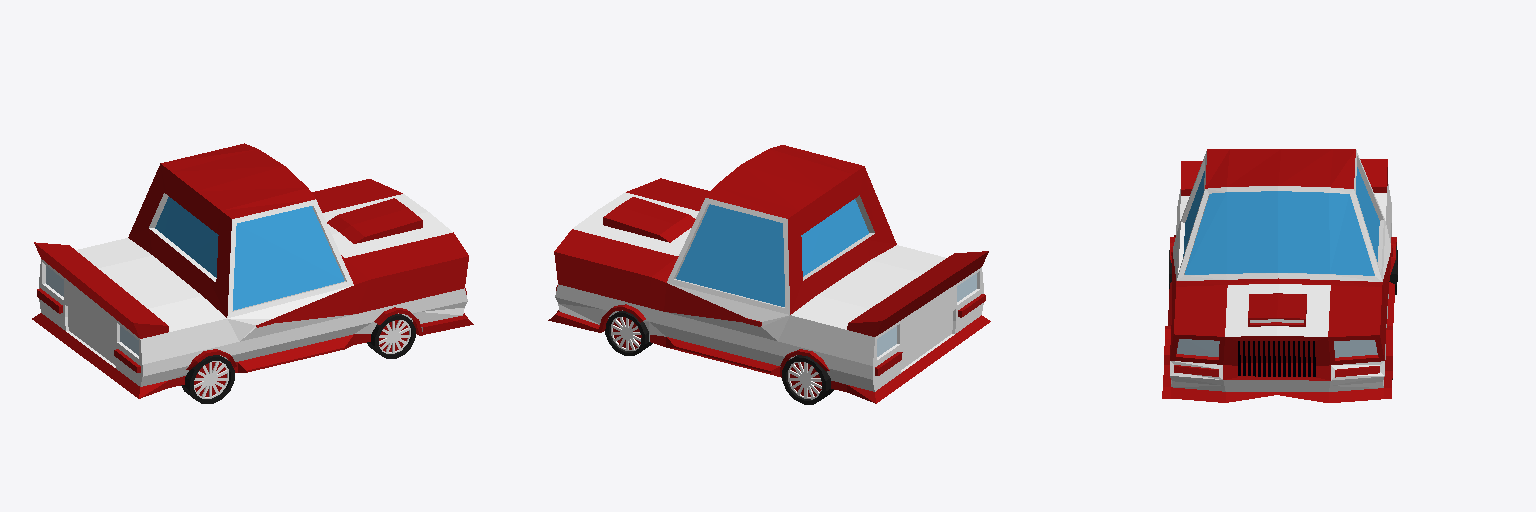
File: race_car.obj
The picture shows the model from 3 angles: view 1: azimuth 30°, elevation 25°; view 2: azimuth 150°, elevation 25°; view 3: azimuth 270°, elevation 25°; orthographic projection.
Visible parts, largest first — view 1: body_ID56, wheel_1_ID84, wheel1_1_ID93, backlight_ID75; view 2: body_ID56, wheel_1_ID84, wheel1_1_ID93, backlight_ID75; view 3: body_ID56, lattice_1_ID29, headlight_ID66, front_fender_ID47.
Part boxes in pixels (x1,y1,x2,y2): body_ID56: (32, 143, 473, 398); wheel_1_ID84: (181, 355, 234, 403); wheel1_1_ID93: (367, 314, 415, 358); backlight_ID75: (46, 266, 138, 355); body_ID56: (548, 145, 990, 403); wheel_1_ID84: (782, 355, 833, 404); wheel1_1_ID93: (605, 311, 652, 355); backlight_ID75: (877, 273, 976, 356); body_ID56: (1162, 149, 1394, 402); lattice_1_ID29: (1238, 341, 1315, 376); headlight_ID66: (1177, 339, 1377, 357); front_fender_ID47: (1164, 326, 1392, 370).
Bounding box in the file's own units: 17.02 × 7.94 × 10.09.